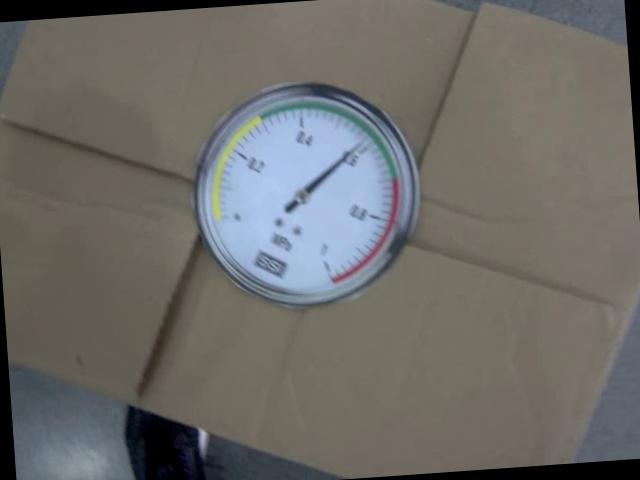Dashboard: (192, 74, 423, 312)
ssi: (252, 244, 288, 282)
